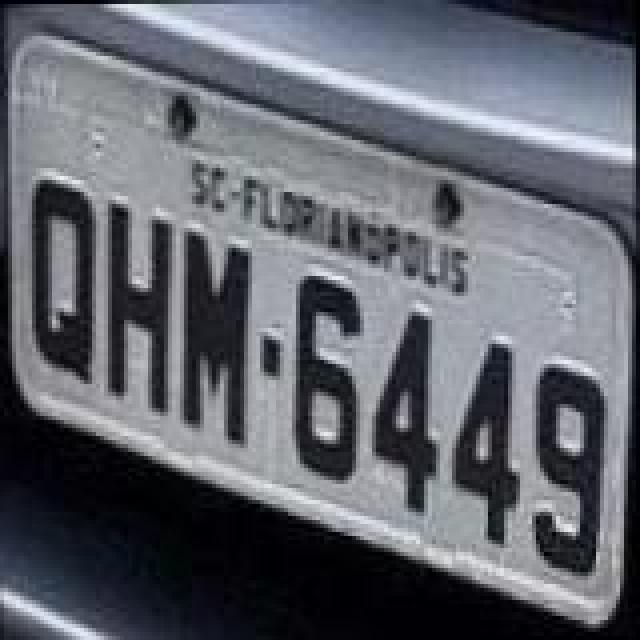4: (372, 312, 444, 516), (452, 344, 524, 548)
6: (288, 272, 364, 480)
9: (530, 360, 614, 576)
H: (106, 198, 178, 418)
M: (176, 230, 252, 446)
Q: (30, 176, 102, 392)
